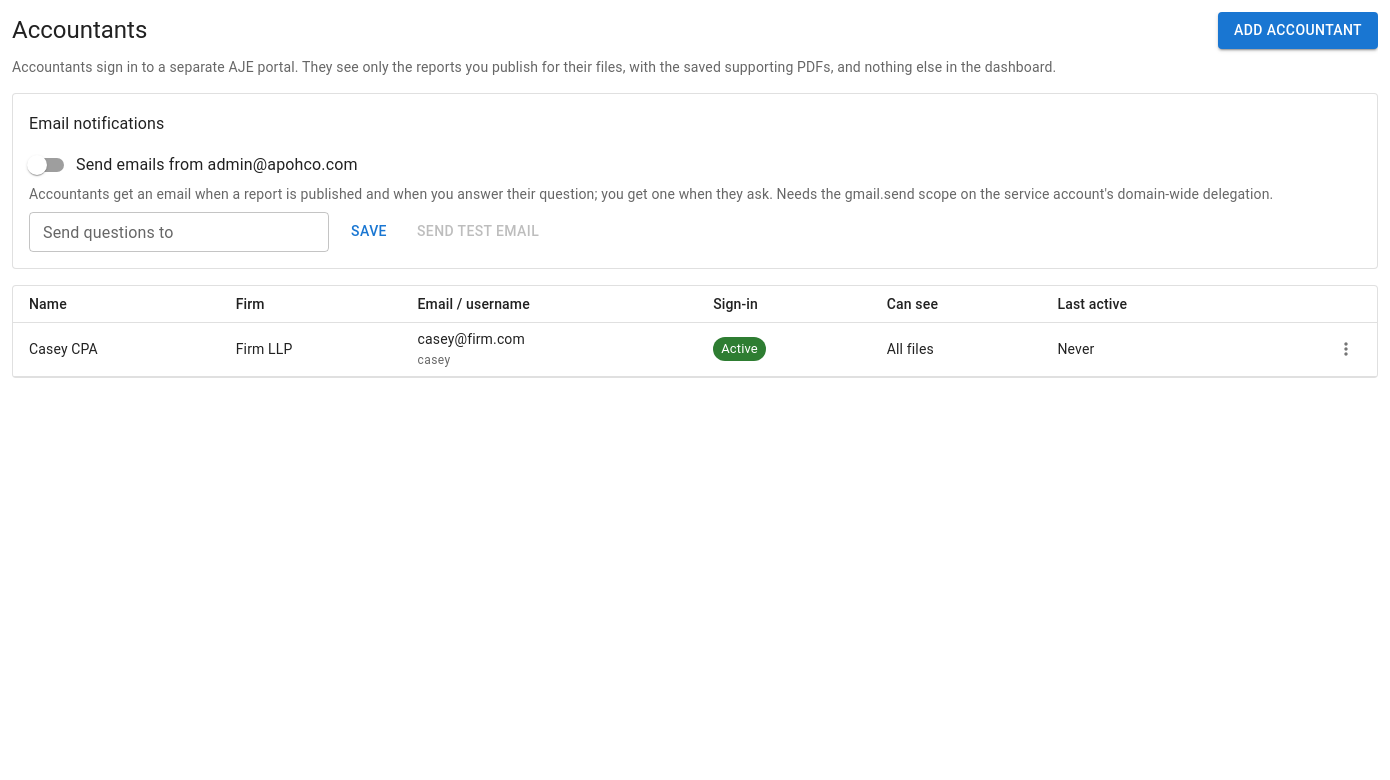
Test: Accountants page › deactivate from the row menu
Click the button named "Actions for Casey CPA" at (1346, 350), box top-left (1331, 334), bottom-right (1361, 364)
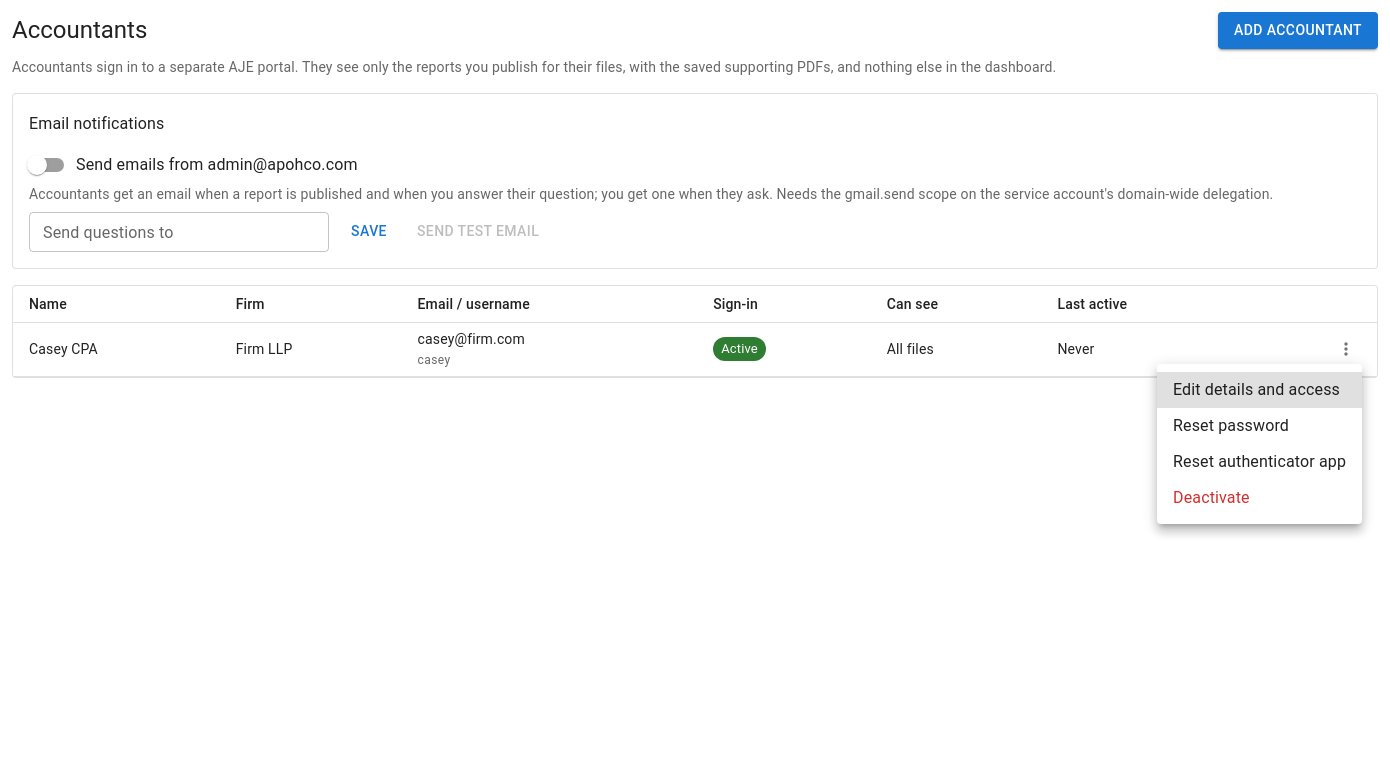
Click the menu item "Deactivate" at (1211, 498), box top-left (1173, 488), bottom-right (1250, 507)
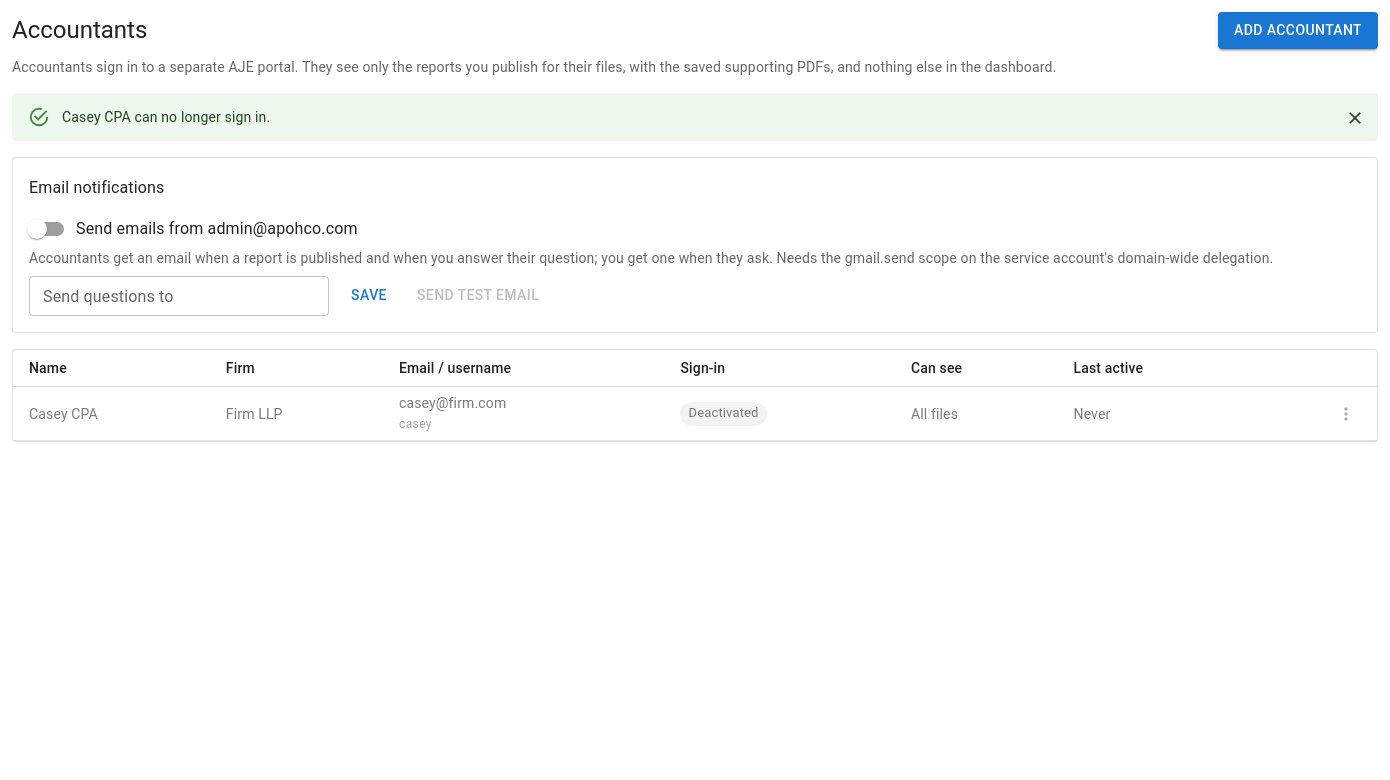
Result: the text "Deactivated" is shown at top-left (688, 405), bottom-right (759, 420)
